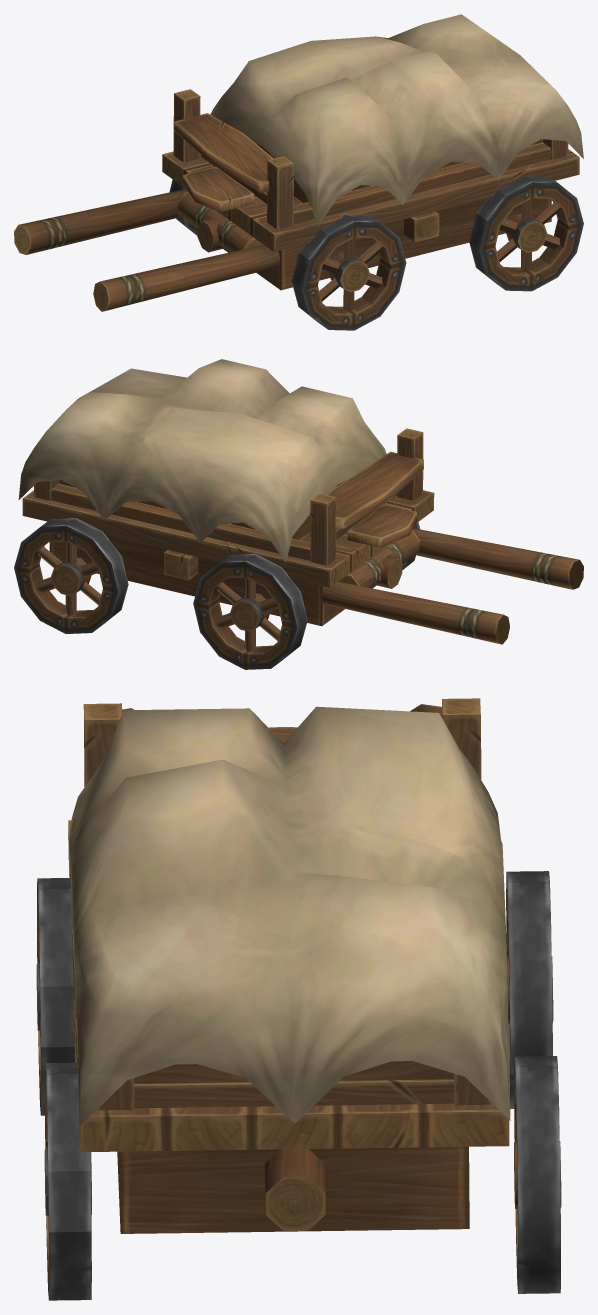
File: cartBody.fbx
3 renders of one model, top to bottom at view 1: azimuth 30°, elevation 25°; view 2: azimuth 150°, elevation 25°; view 3: azimuth 270°, elevation 25°, orthographic. The views are drawn at different scales.
Visible parts, largest first — view 1: polySurface1206, wheel001, wheel002; view 2: polySurface1206, wheel001, wheel002; view 3: polySurface1206, wheel002, wheel001.
Boxes of the visible parts, x1,y1,x2,y2 form: polySurface1206: (14, 14, 583, 311); wheel001: (169, 179, 406, 330); wheel002: (469, 176, 583, 291); polySurface1206: (18, 359, 583, 644); wheel001: (193, 522, 419, 669); wheel002: (14, 518, 128, 633); polySurface1206: (68, 698, 510, 1233); wheel002: (44, 1056, 561, 1300); wheel001: (36, 871, 553, 1115).
Size of the model in its own units: 11.06 by 4.86 by 5.28.
